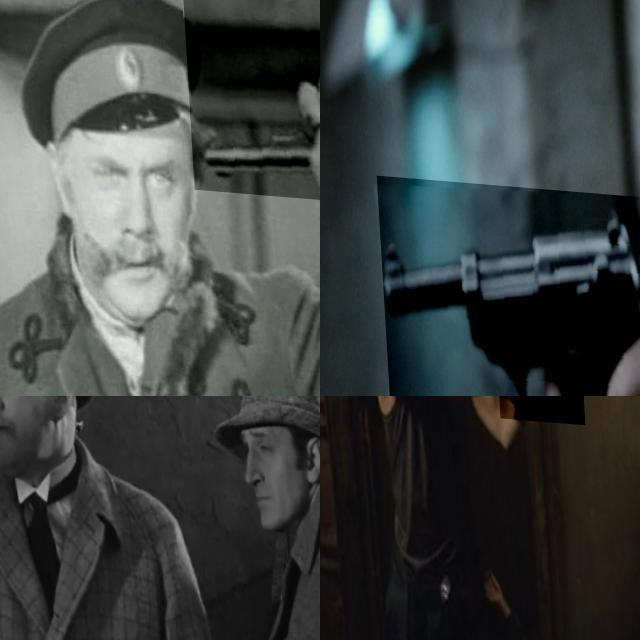gun-knife-thesis - v11 Yolov5 augmented: (374, 173, 640, 396), (182, 0, 320, 201), (491, 396, 581, 454)
